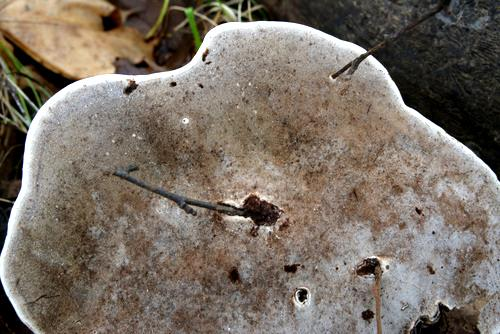Ganoderma - Fruit Body: (0, 22, 500, 334)
